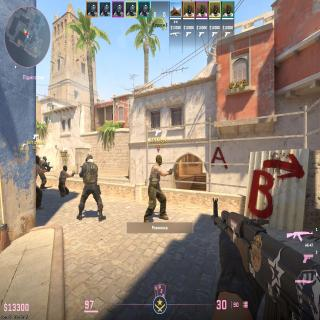CT-Body: (79, 154, 98, 219), (41, 156, 48, 188)
CT-Head: (85, 154, 93, 163), (42, 156, 47, 161)
T-Body: (144, 155, 166, 221), (35, 155, 42, 209), (60, 164, 68, 197)
T-Head: (156, 155, 162, 165), (35, 156, 40, 164), (63, 166, 68, 172)
